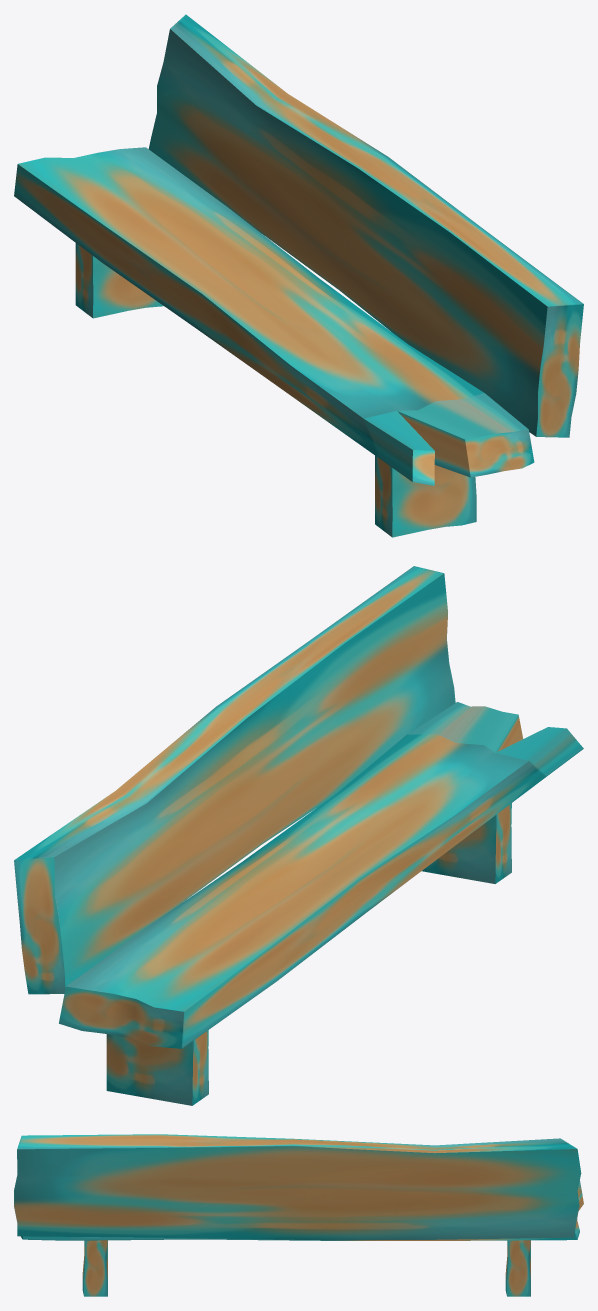
Rendered from bench.fbx.
The picture shows the model from 3 angles, top to bottom: view 1: azimuth 30°, elevation 25°; view 2: azimuth 150°, elevation 25°; view 3: azimuth 270°, elevation 25°; orthographic projection. The views are drawn at different scales.
Visible parts, largest first — view 1: plank03; view 2: plank03; view 3: plank03.
Part boxes in pixels (bbox=[...]): plank03: bbox=[14, 14, 583, 537]; plank03: bbox=[14, 566, 583, 1105]; plank03: bbox=[14, 1134, 583, 1296].
Size of the model in its own units: 62.21 by 83.83 by 252.
